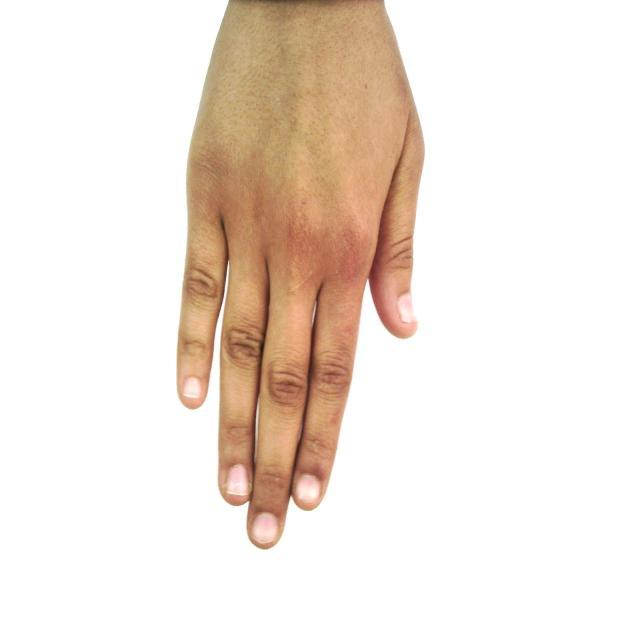Fingernail: (253, 514, 278, 543), (226, 465, 249, 494), (296, 475, 319, 503), (399, 294, 416, 325), (184, 378, 202, 398)
